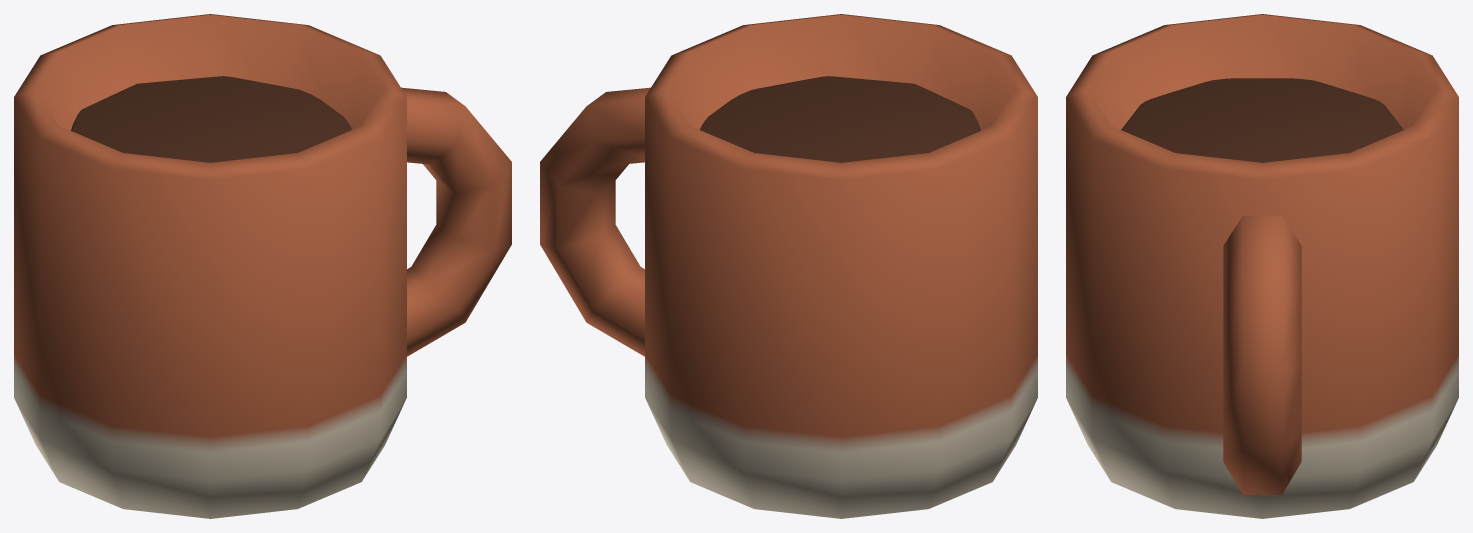
File: mug.glb
The picture shows the model from 3 angles, left to right: view 1: azimuth 30°, elevation 25°; view 2: azimuth 150°, elevation 25°; view 3: azimuth 270°, elevation 25°; orthographic projection.
Parts seen in each view (by area): view 1: mug; view 2: mug; view 3: mug.
Boxes of the visible parts, x1,y1,x2,y2 form: mug: (14,14,511,518); mug: (540,14,1037,518); mug: (1066,14,1458,518).
Bounding box in the file's own units: 0.1221 × 0.09 × 0.09.
